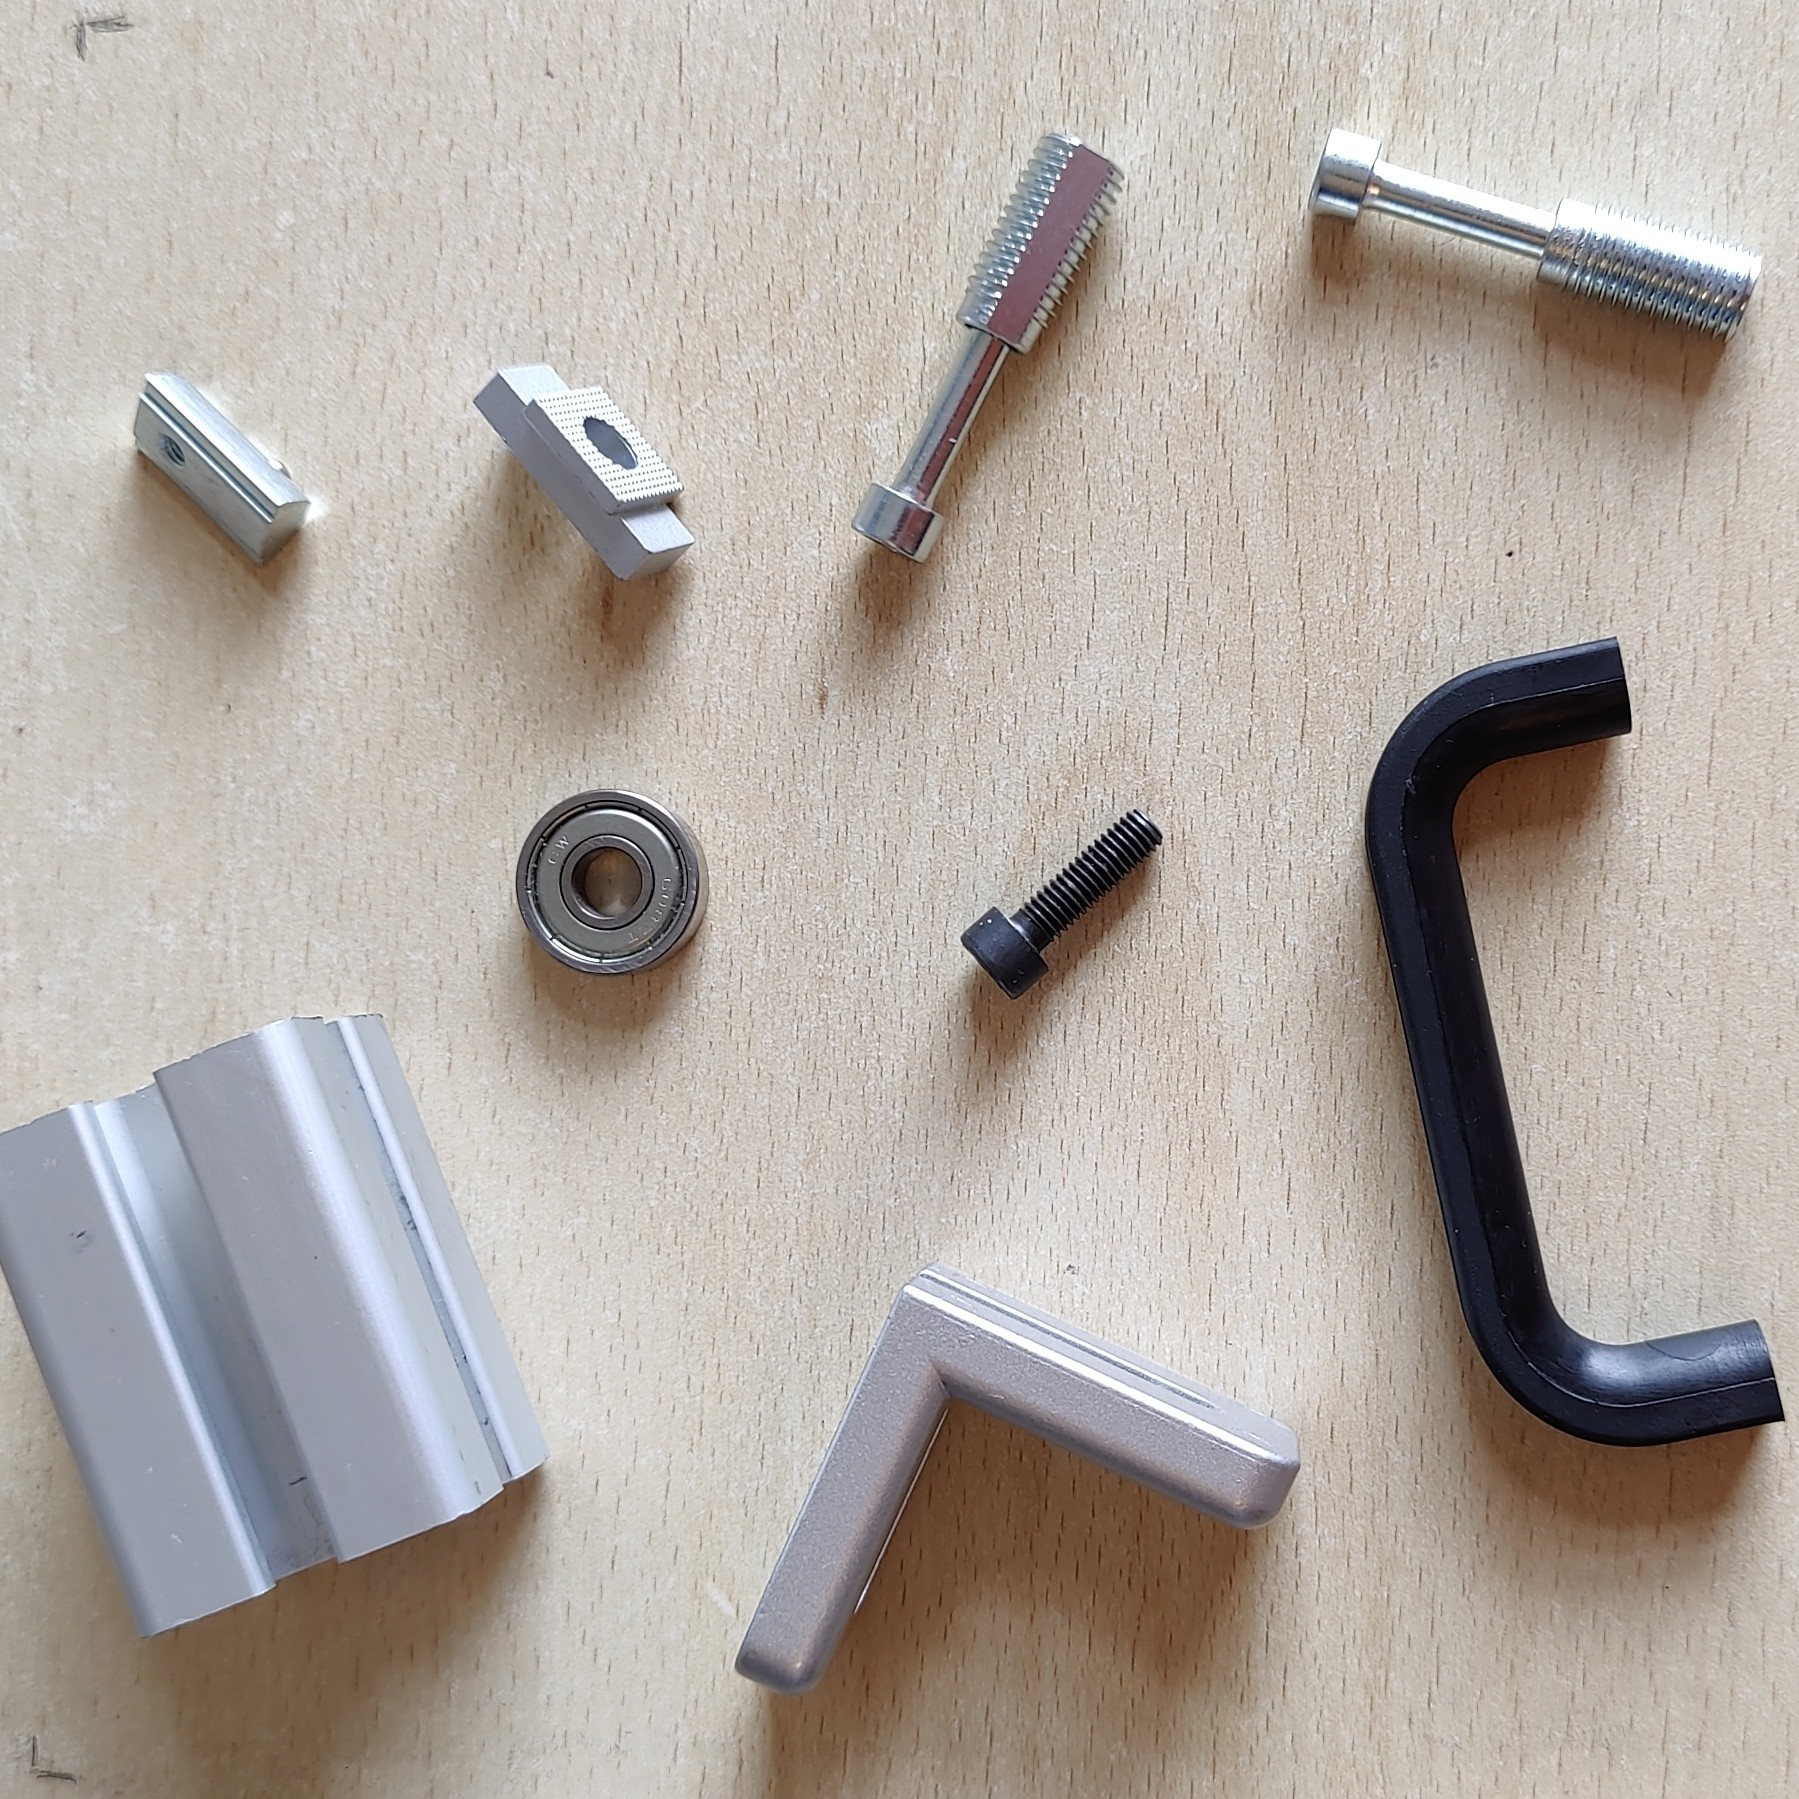Aluminium Extension: (2, 1007, 554, 1644)
Ball Bearing: (512, 789, 710, 980)
Multiwinkel: (730, 1255, 1305, 1699)
Pull Handle: (1361, 634, 1787, 1450)
Shoulder Socket Head Cap Screw: (848, 128, 1132, 567), (1308, 124, 1771, 351)
Socket Head Cap Screw: (957, 802, 1166, 1003)
T Nut Square: (468, 361, 699, 586)
T Spring Nut: (130, 364, 311, 572)
